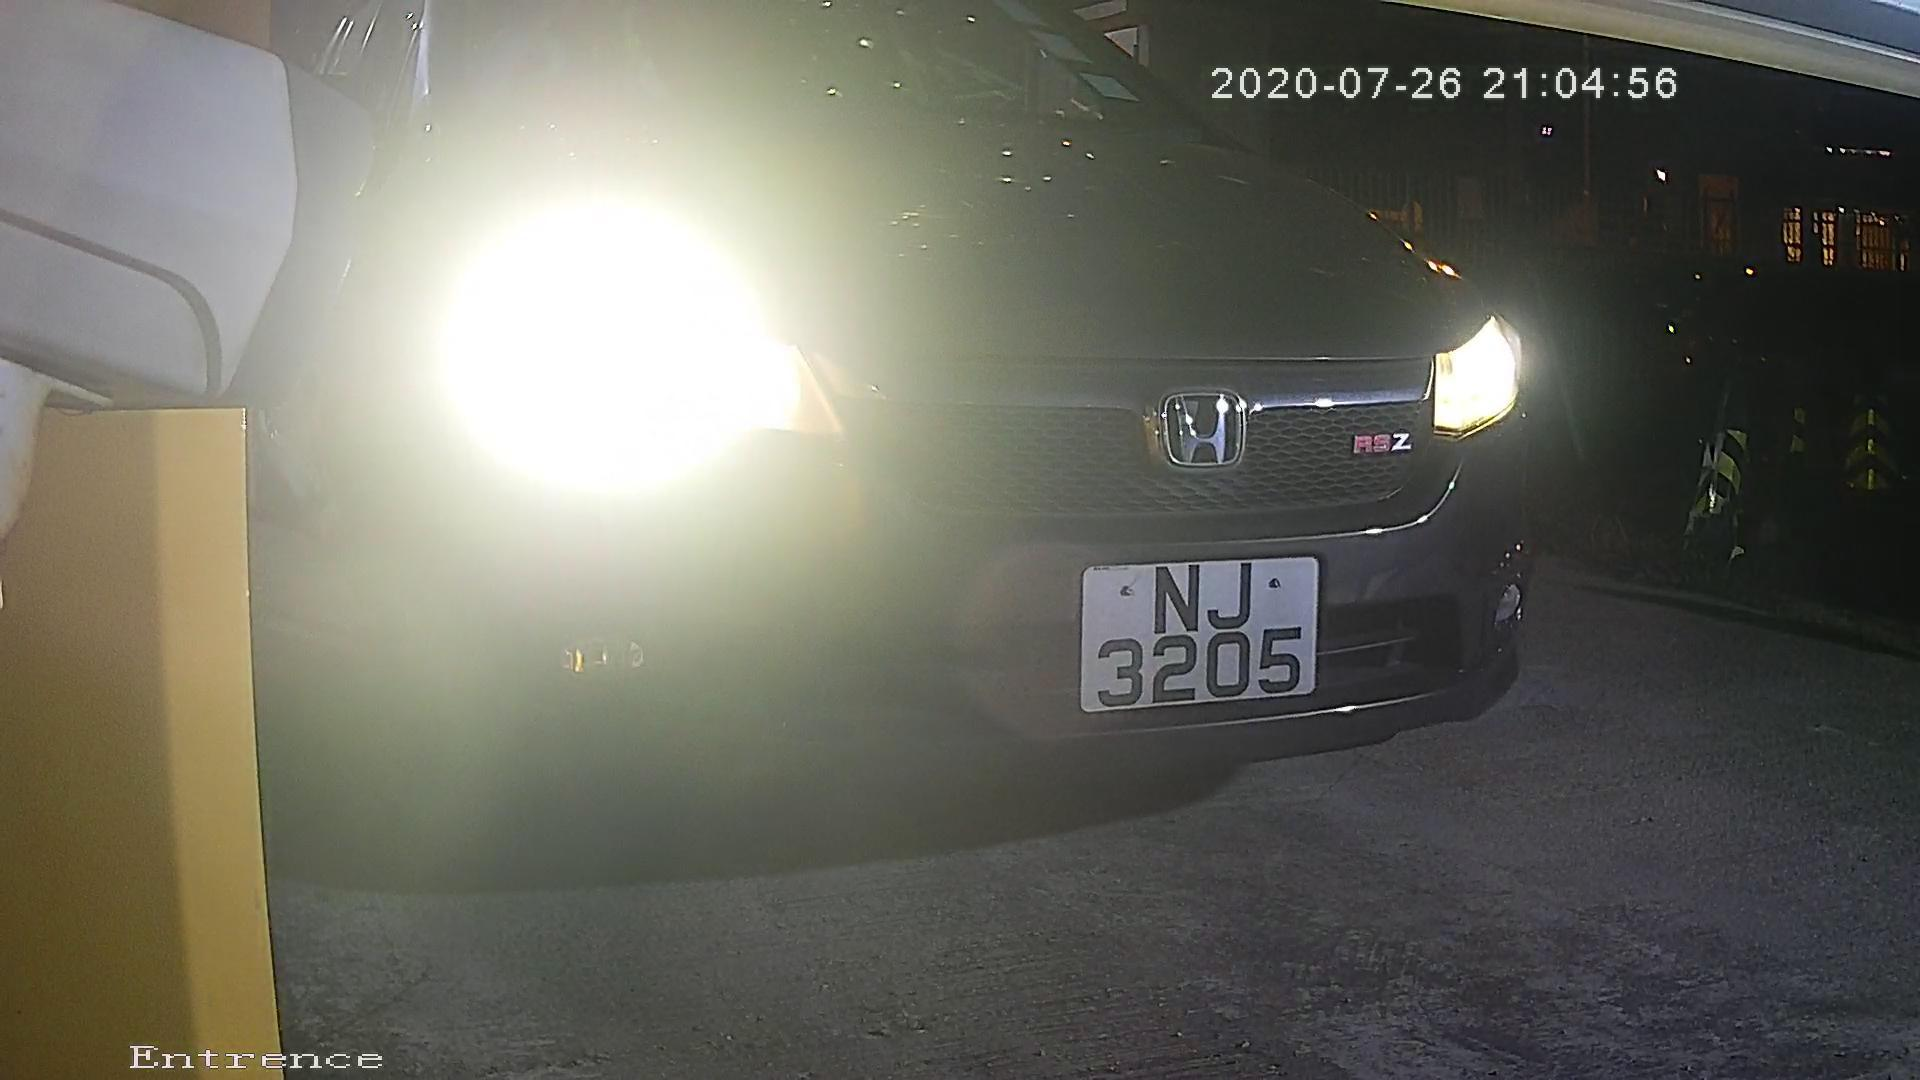Car: (78, 5, 1638, 941)
License Plate: (1046, 526, 1338, 729)
